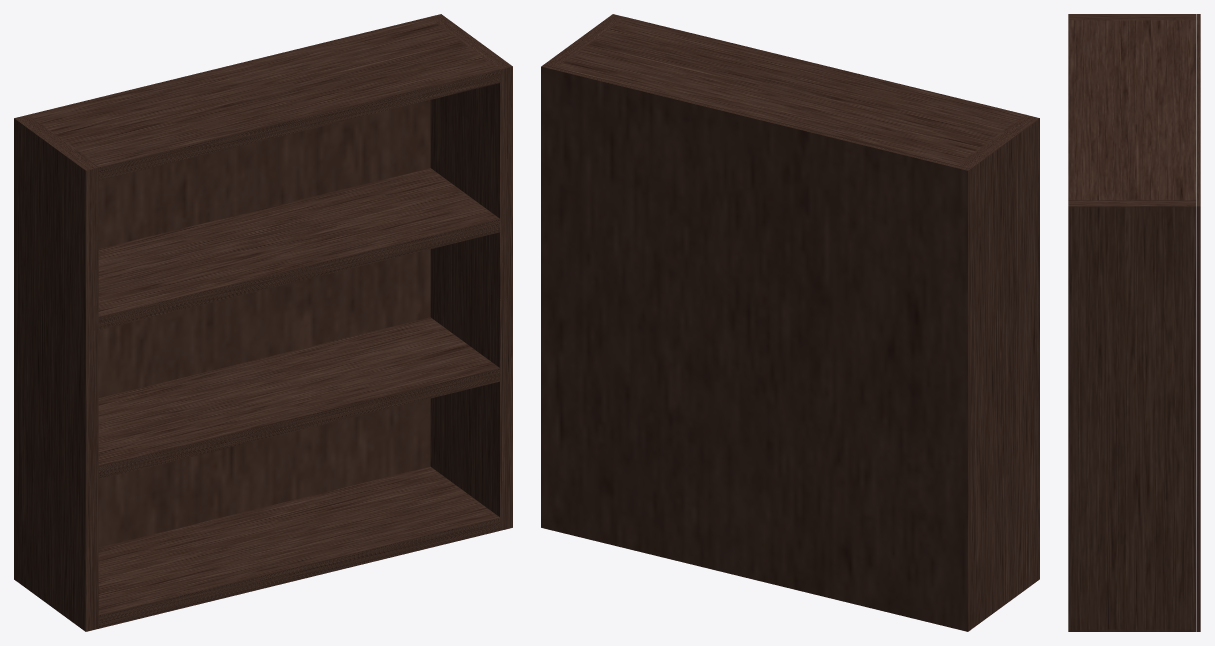
The model's file is bookshelf.glb.
3 renders of one model, left to right at view 1: azimuth 30°, elevation 25°; view 2: azimuth 150°, elevation 25°; view 3: azimuth 270°, elevation 25°, orthographic. The views are drawn at different scales.
Visible parts, largest first — view 1: pCube7, pCube6, pCube4, pCube1, pCube2, pCube3, pCube5; view 2: pCube7, pCube6, pCube4, pCube5; view 3: pCube5, pCube4, pCube7, pCube6.
Part boxes in pixels (<box>): pCube7: <box>14,14,442,580</box>; pCube6: <box>16,117,98,631</box>; pCube4: <box>29,18,500,180</box>; pCube1: <box>98,466,500,628</box>; pCube2: <box>98,317,500,479</box>; pCube3: <box>98,168,499,329</box>; pCube5: <box>430,15,512,530</box>; pCube7: <box>541,65,970,631</box>; pCube6: <box>958,115,1039,629</box>; pCube4: <box>556,17,1026,165</box>; pCube5: <box>543,14,625,67</box>; pCube5: <box>1068,200,1196,631</box>; pCube4: <box>1068,19,1196,200</box>; pCube7: <box>1196,14,1200,631</box>; pCube6: <box>1068,14,1196,19</box>.
Size of the model in its own units: 2.13 by 2.2 by 0.6194.
Materials: 1 (1 with a texture image).
